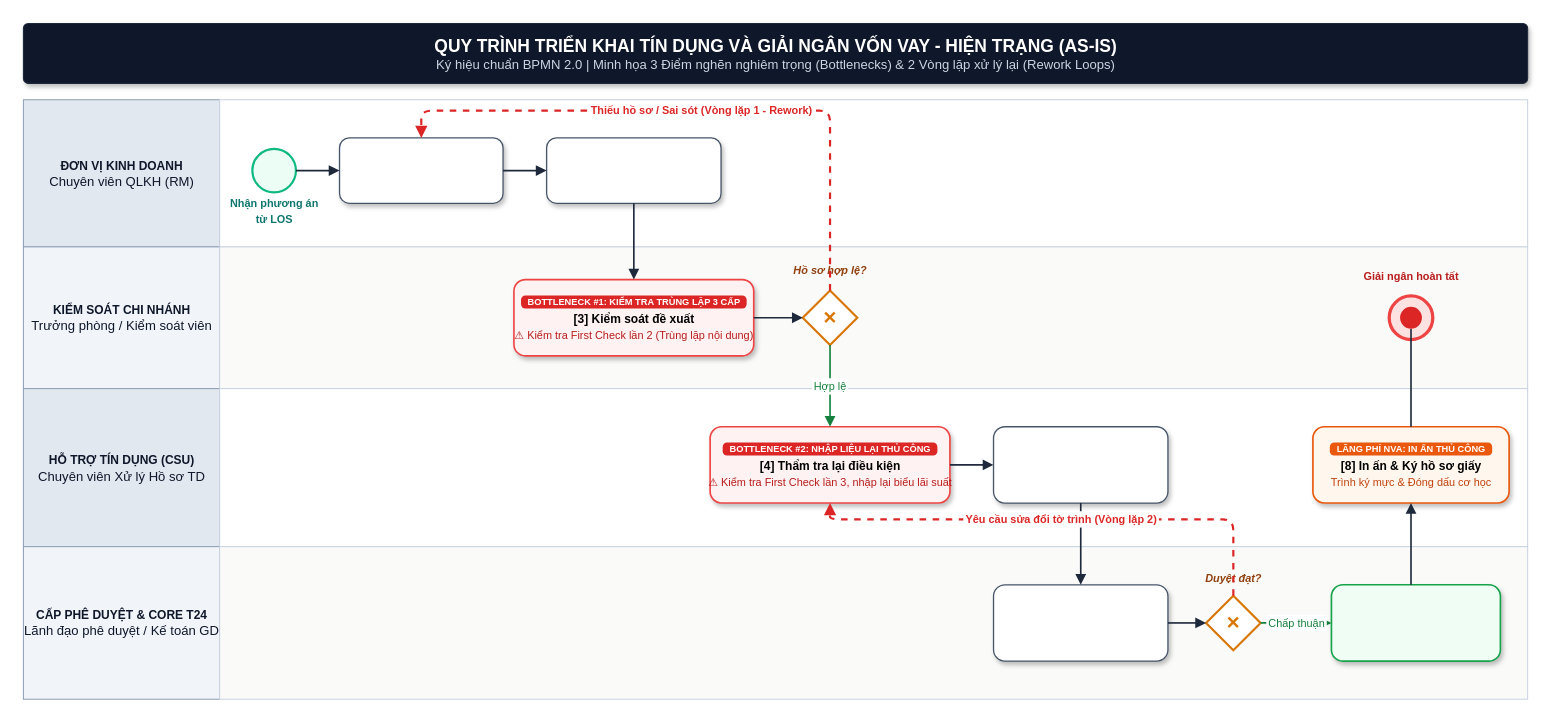
Some shapes in this 1553 by 718 pixel diagram are drawn without their labels. Here are the shapes that lost their labels. From the top down, the centre of each, then its label:
[422,171]: [1] Khởi tạo phương án Tải lên hồ sơ, chứng từ giải ngân qua giao diện LOS
[634,171]: [2] Nhập thông tin GN Nhập tài khoản, số tiền Thực hiện First Check lần 1
[1081,466]: [5] Lập Báo cáo kiểm soát Soạn tờ trình kiểm soát, Đề xuất phê duyệt giải ngân
[1081,624]: [6] Kiểm soát viên duyệt Kiểm tra hạn mức, thẩm quyền, Ký duyệt lệnh giải ngân
[1416,624]: [7] Hạch toán Core T24 Kế toán giao dịch hạch toán, Đẩy lệnh chuyển tiền liên NH
